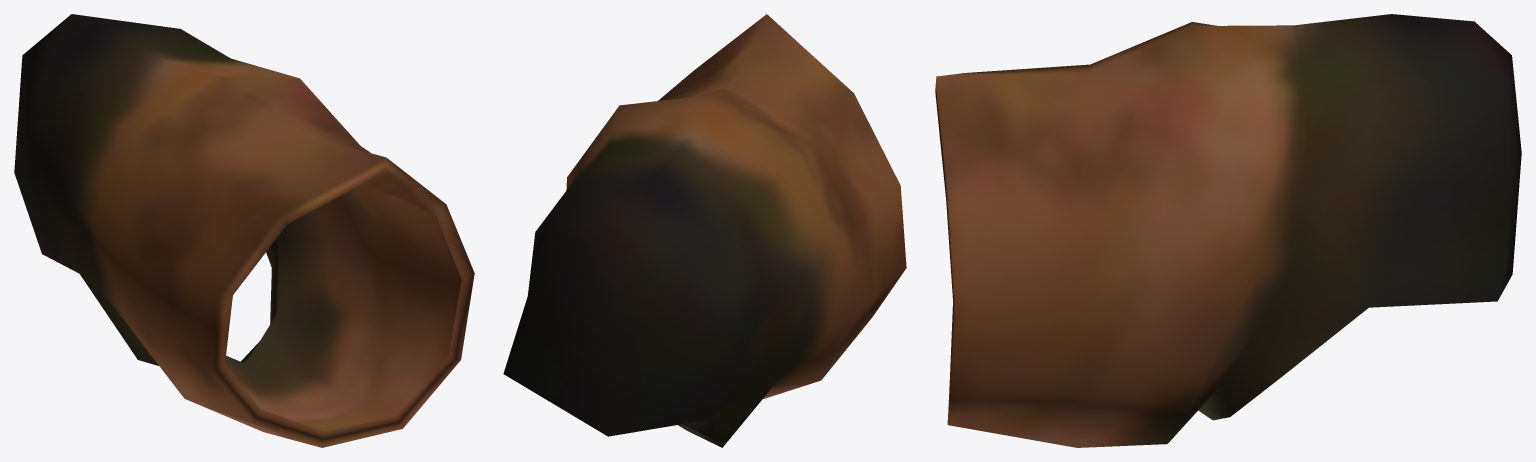
Rendered from gnome_lvl1_shatter_02.fbx.
3 renders of one model, left to right at view 1: azimuth 30°, elevation 25°; view 2: azimuth 150°, elevation 25°; view 3: azimuth 270°, elevation 25°, orthographic. The views are drawn at different scales.
Visible parts, largest first — view 1: polySurface4; view 2: polySurface4; view 3: polySurface4.
Boxes of the visible parts, x1,y1,x2,y2 form: polySurface4: (14,14,474,447); polySurface4: (503,14,906,447); polySurface4: (935,14,1521,447).
Size of the model in its own units: 2.06 by 2.3 by 3.15.
